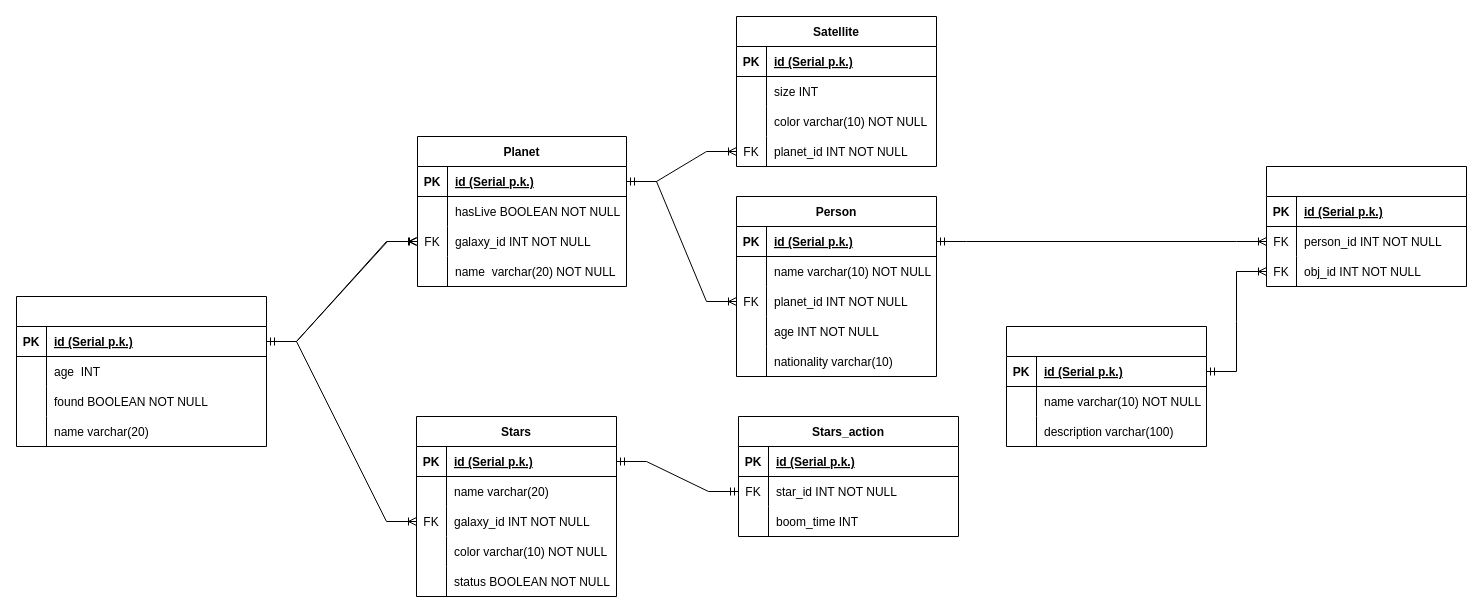
The diagram is 1483 pixels wide and 613 high, and some of its shapes have lost their labels. The shapes that lost their labels are listed below. From the top down, each one's box as (x1, y1, x2, y2) in pixels, then its label:
(1266, 166, 1466, 286): Person_obj
(16, 296, 266, 446): Galaxy
(1006, 326, 1206, 446): Obj
